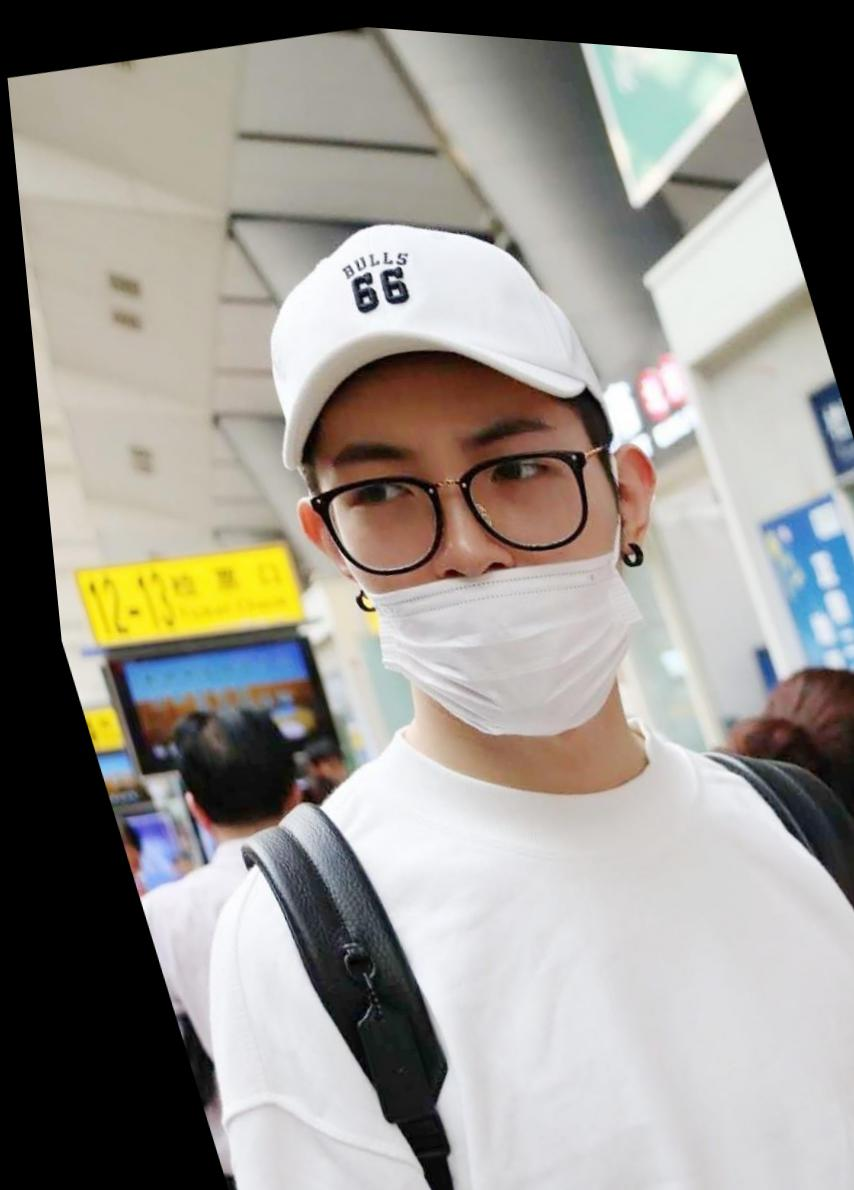WRONG: (286, 373, 682, 762)
